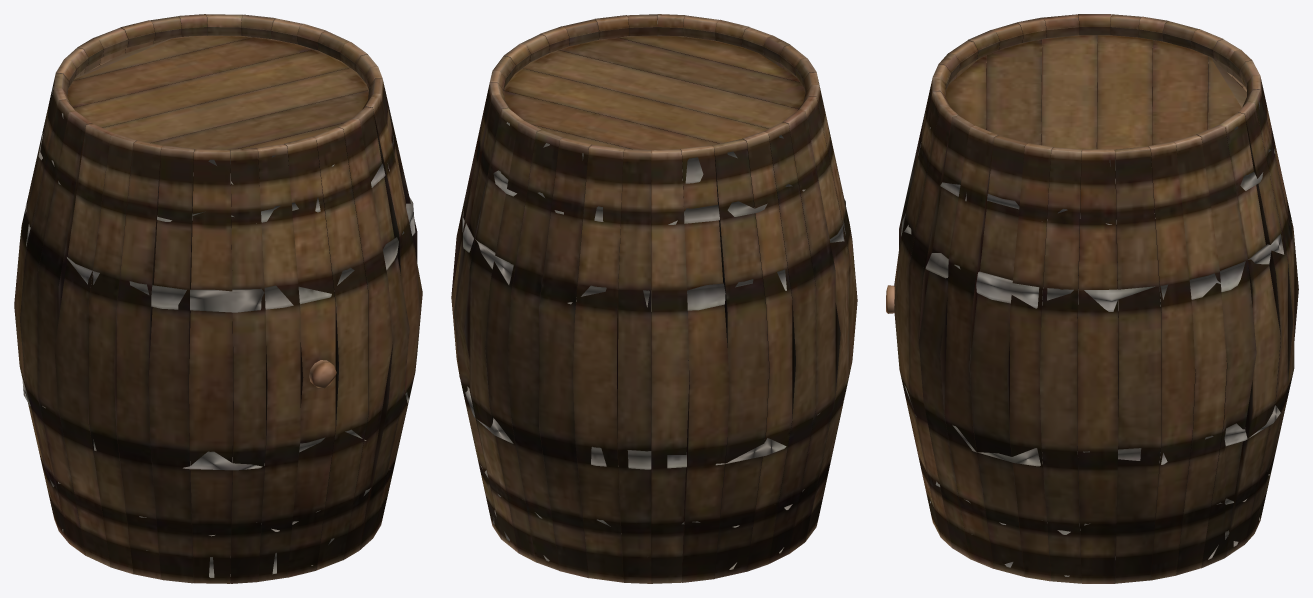
File: wine_barrel_01.glb
The picture shows the model from 3 angles, left to right: view 1: azimuth 30°, elevation 25°; view 2: azimuth 150°, elevation 25°; view 3: azimuth 270°, elevation 25°; orthographic projection.
Parts seen in each view (by area): view 1: wine_barrel_01, wine_barrel_01_Lid, wine_barrel_01_bung; view 2: wine_barrel_01, wine_barrel_01_Lid; view 3: wine_barrel_01, wine_barrel_01_Lid.
Boxes of the visible parts, box(x1,y1,x2,y2) form: wine_barrel_01: box(14, 14, 422, 583); wine_barrel_01_Lid: box(67, 36, 368, 149); wine_barrel_01_bung: box(309, 360, 336, 388); wine_barrel_01: box(451, 14, 857, 583); wine_barrel_01_Lid: box(503, 36, 805, 152); wine_barrel_01: box(894, 14, 1298, 583); wine_barrel_01_Lid: box(946, 35, 1246, 149).
Bounding box in the file's own units: 0.7391 × 0.8695 × 0.754.
Materials: 1 (1 with a texture image).
